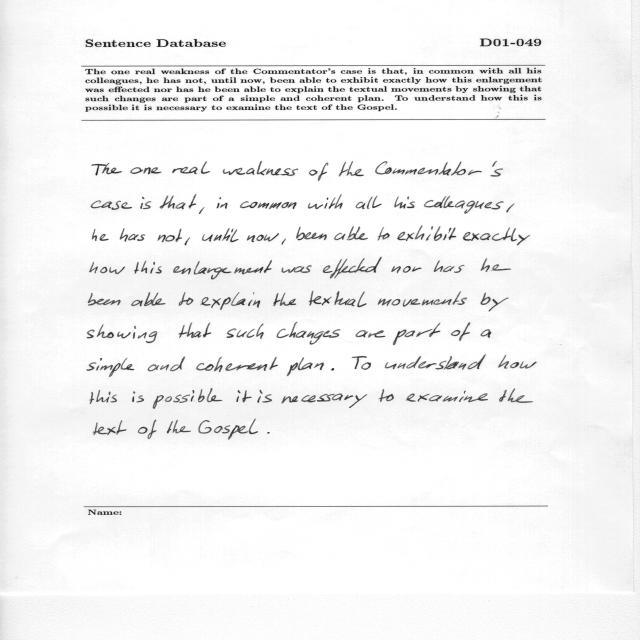word: (375, 161, 503, 177), (173, 260, 272, 280), (385, 355, 486, 370), (276, 322, 341, 345), (153, 388, 223, 409), (424, 196, 504, 214), (378, 292, 468, 307), (87, 324, 157, 343), (282, 393, 367, 408), (323, 257, 382, 278), (199, 419, 258, 440), (196, 357, 278, 372), (463, 228, 530, 246), (223, 161, 298, 176), (201, 292, 261, 310), (393, 323, 440, 345), (406, 391, 488, 403), (397, 225, 456, 241), (309, 291, 367, 307), (87, 358, 134, 377), (287, 357, 324, 376), (160, 194, 197, 209), (227, 324, 264, 339), (148, 357, 185, 372), (308, 194, 343, 209), (179, 322, 211, 338), (499, 388, 533, 403), (93, 420, 127, 435), (498, 355, 537, 368), (202, 228, 238, 242), (481, 293, 509, 311), (172, 162, 210, 175), (131, 292, 166, 306), (334, 227, 368, 241), (240, 201, 297, 209), (88, 293, 121, 306), (90, 262, 125, 274), (481, 258, 511, 272), (91, 200, 132, 210), (296, 227, 327, 240), (434, 260, 464, 273), (90, 390, 117, 404), (339, 162, 364, 177), (134, 261, 162, 274), (451, 322, 470, 341), (92, 163, 122, 175), (120, 228, 145, 242), (309, 163, 328, 181), (138, 420, 156, 439), (356, 196, 382, 209), (157, 229, 182, 242), (167, 420, 191, 433), (274, 293, 297, 306), (247, 233, 279, 242), (352, 356, 371, 370), (394, 197, 415, 209), (282, 265, 312, 273), (356, 330, 386, 338), (131, 168, 162, 175), (391, 266, 421, 273), (236, 390, 252, 403), (92, 229, 109, 241), (179, 292, 193, 306), (379, 389, 394, 402), (258, 390, 272, 403), (377, 227, 390, 240), (140, 197, 151, 209), (217, 197, 228, 209), (132, 392, 144, 403), (481, 329, 492, 338), (507, 204, 514, 213), (185, 238, 190, 246), (199, 207, 204, 214), (281, 239, 286, 245), (331, 368, 334, 371), (267, 432, 270, 434)
